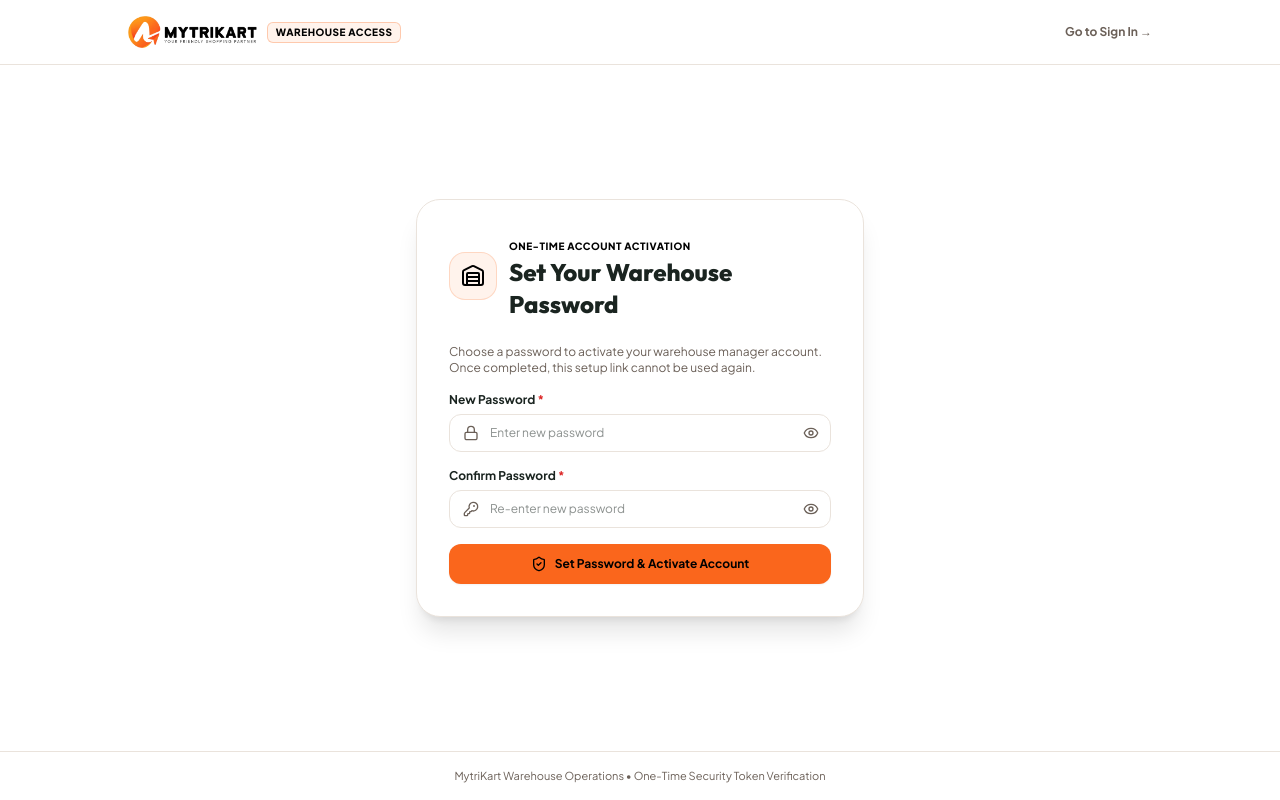
Scenario: WarehouseSetupPage — Public One-Time Password Setup › 4. shows generic invalid-link message on 400 Invalid setup token and throttle message on 429
Type "Str0ng!Warehouse#2026" into the password field with test id "setup-new-password-input". click: (640, 433)
box: [449,414,831,452]
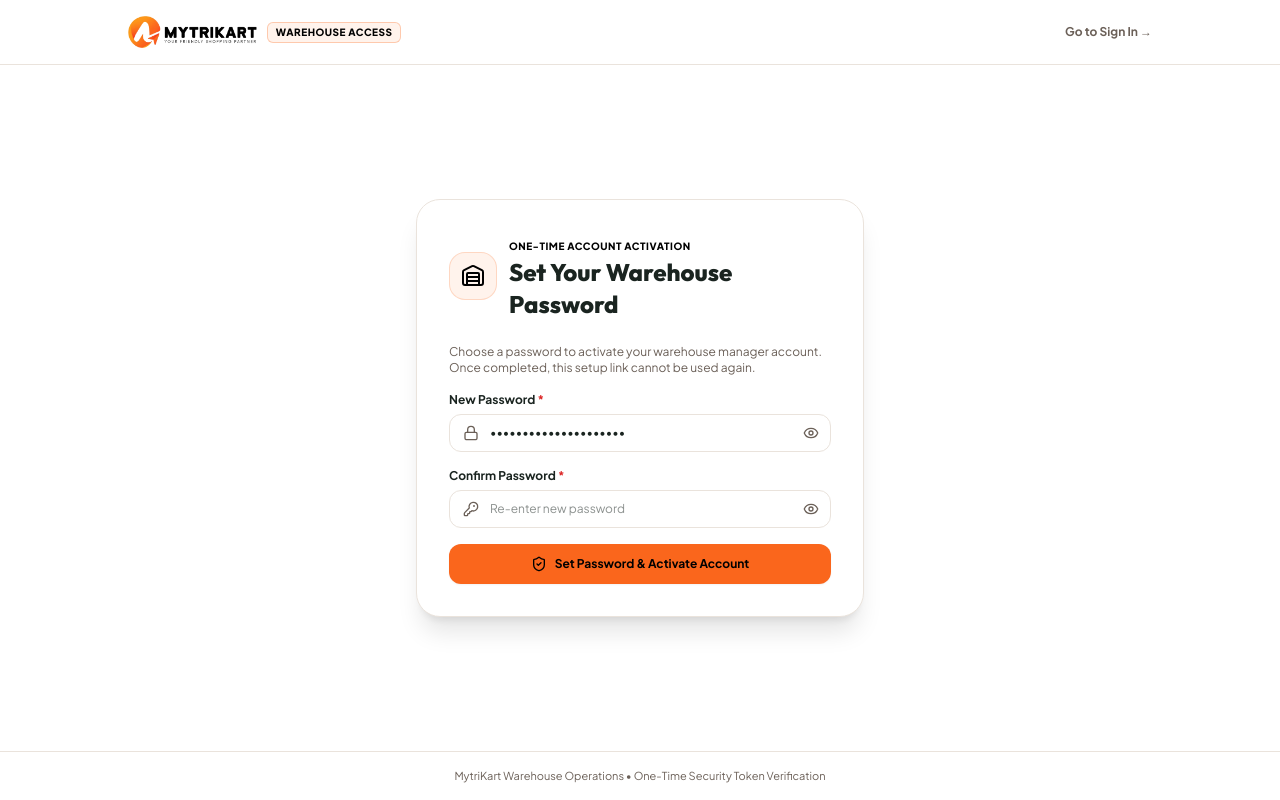
Type "Str0ng!Warehouse#2026" into the password field with test id "setup-confirm-password-input". click: (640, 509)
box: [449,490,831,528]
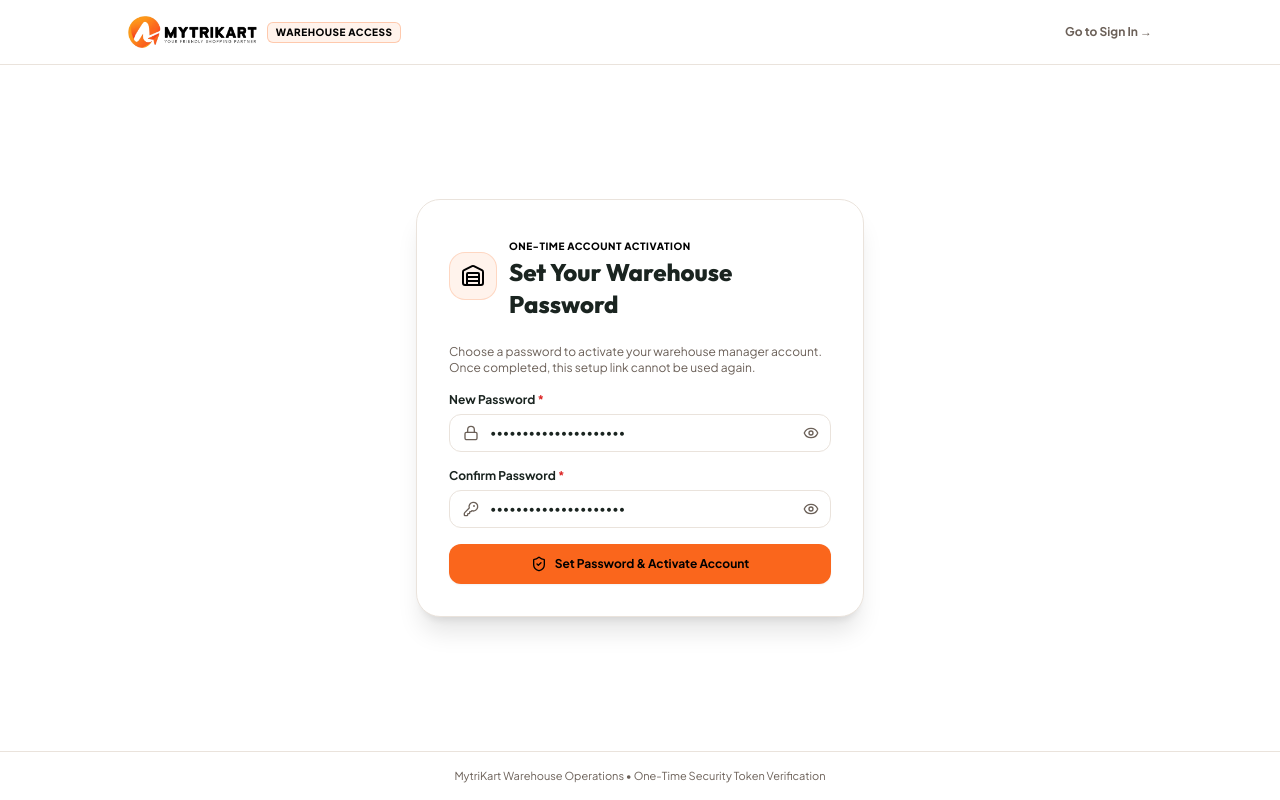
Click the button with test id "setup-submit-btn". click: (640, 564)
box: [449,544,831,584]
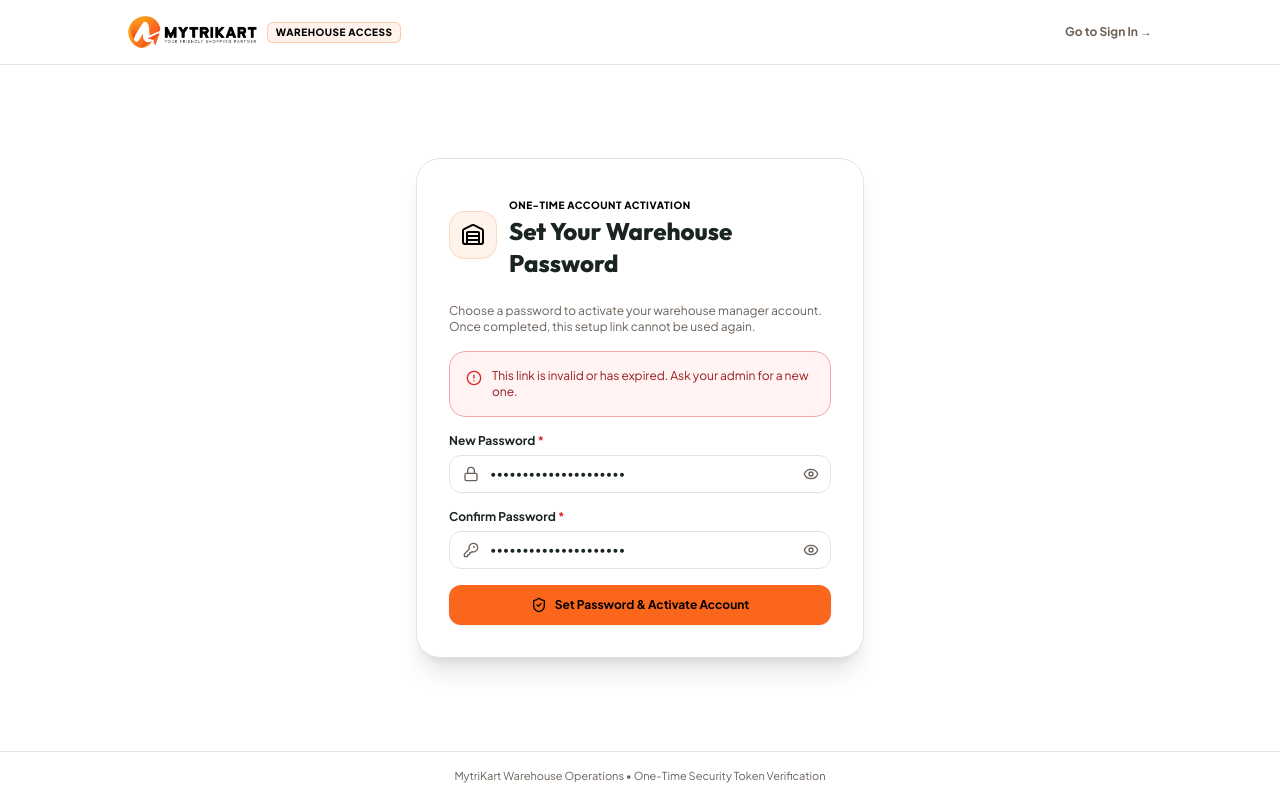
Check: the message with test id "setup-invalid-link-error" reads "This link is invalid or has expired. Ask your admin for a new one.", box [492,368,808,399]
Click the button with test id "setup-submit-btn". click: (640, 605)
box: [449,585,831,625]
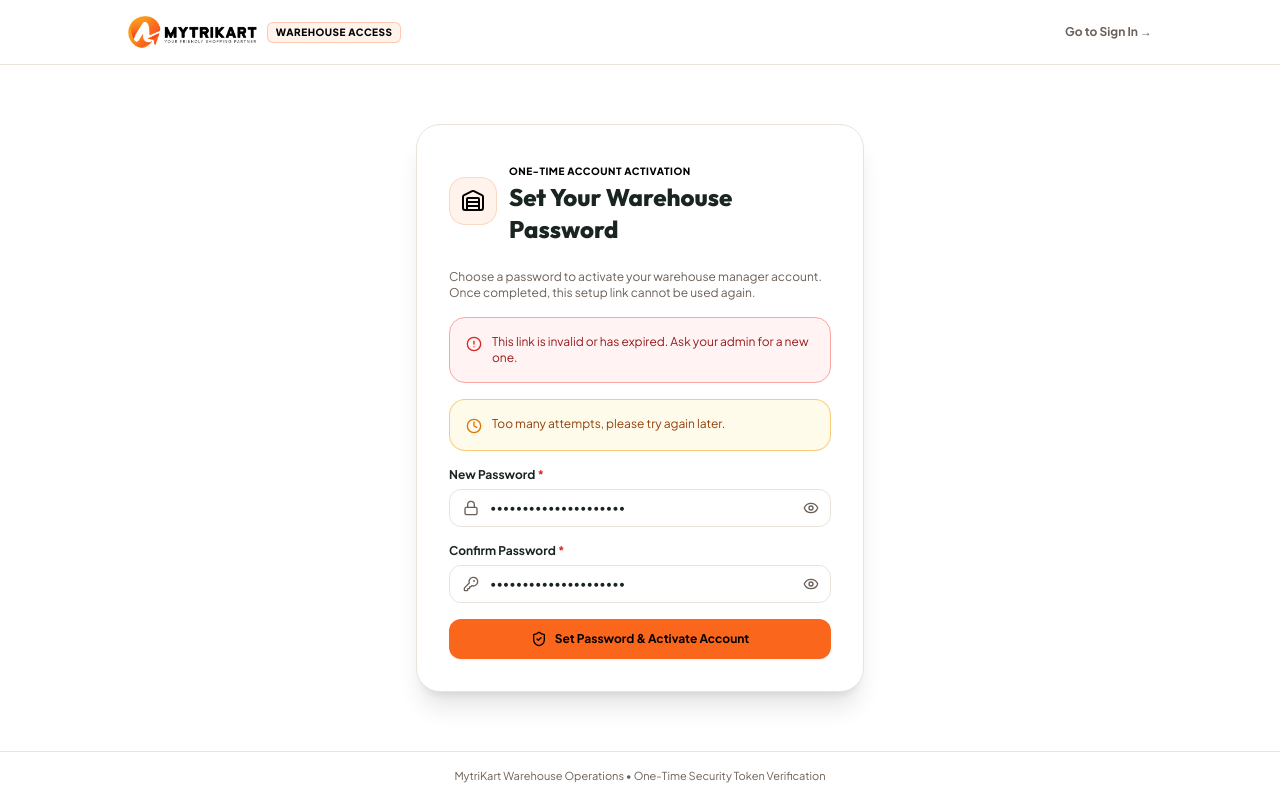
Check: the message with test id "setup-throttle-error" reads "Too many attempts, please try again later.", box [492,416,725,431]
